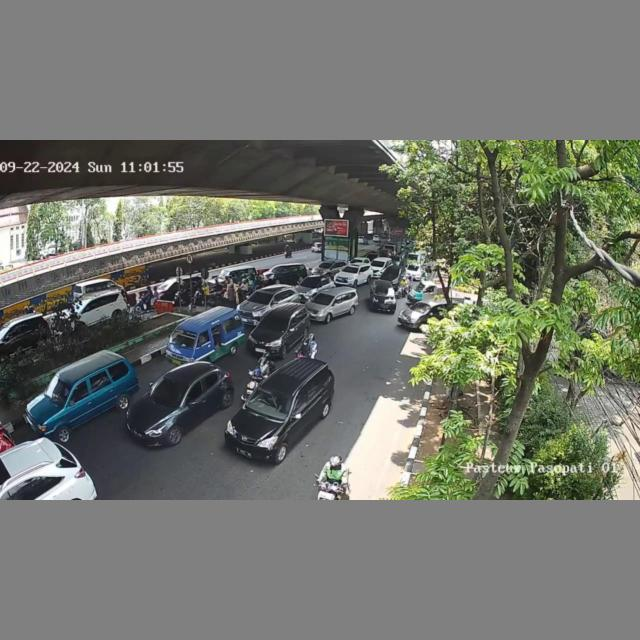windshield: (247, 384, 297, 418), (149, 377, 190, 405), (45, 376, 73, 406), (169, 328, 199, 348), (260, 315, 290, 330), (247, 291, 272, 304), (314, 293, 332, 304), (374, 286, 393, 295)
